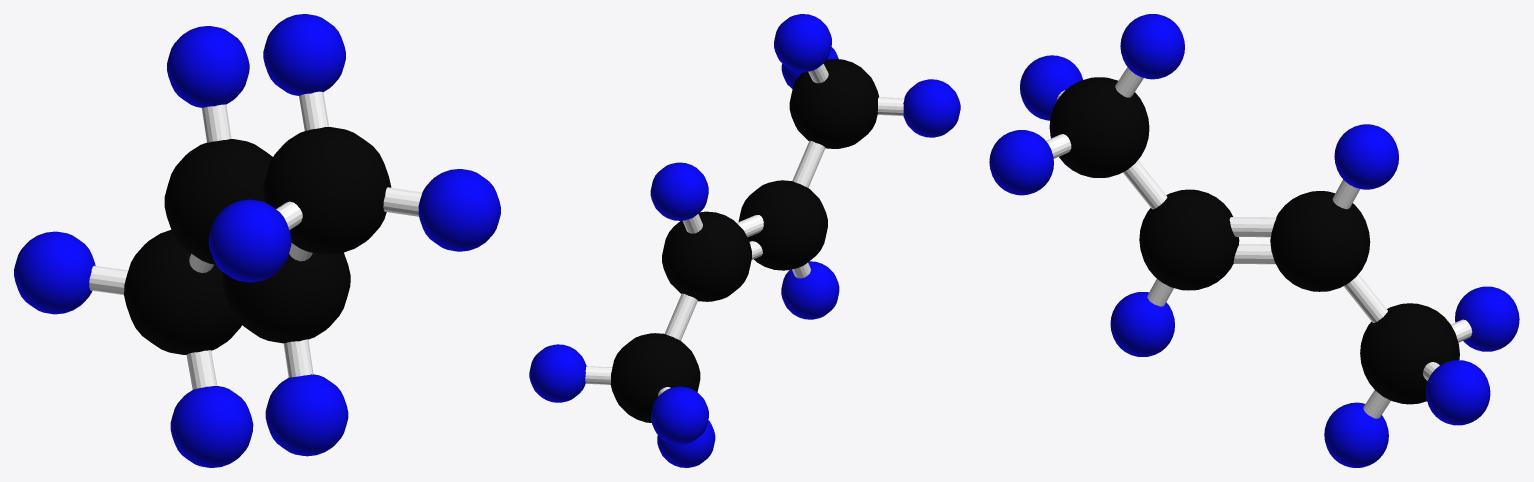
File: trans-but_2_eno.obj
3 renders of one model, left to right at view 1: azimuth 30°, elevation 25°; view 2: azimuth 150°, elevation 25°; view 3: azimuth 270°, elevation 25°, orthographic. The views are drawn at different scales.
Visible parts, largest first — view 1: Shape_Sphere.019_Shape_Sphere.032, Shape_Sphere.014_Shape_Sphere.027, Shape_Sphere.013_Shape_Sphere.026, Shape_Sphere.012_Shape_Sphere.025, Shape_Sphere.023_Shape_Sphere, Shape_Sphere.022_Shape_Sphere.035, Shape_Sphere.016_Shape_Sphere.029, Shape_Sphere.020_Shape_Sphere.033, Shape_Sphere.015_Shape_Sphere.028, Shape_Sphere.021_Shape_Sphere.034, Shape_Sphere.018_Shape_Sphere.031; view 2: Shape_Sphere.012_Shape_Sphere.025, Shape_Sphere.019_Shape_Sphere.032, Shape_Sphere.013_Shape_Sphere.026, Shape_Sphere.014_Shape_Sphere.027, Shape_Sphere.015_Shape_Sphere.028, Shape_Sphere.023_Shape_Sphere, Shape_Sphere.018_Shape_Sphere.031, Shape_Sphere.021_Shape_Sphere.034, Shape_Sphere.017_Shape_Sphere.030, Shape_Sphere.020_Shape_Sphere.033, Shape_Sphere.016_Shape_Sphere.029; view 3: Shape_Sphere.012_Shape_Sphere.025, Shape_Sphere.013_Shape_Sphere.026, Shape_Sphere.019_Shape_Sphere.032, Shape_Sphere.014_Shape_Sphere.027, Shape_Sphere.015_Shape_Sphere.028, Shape_Sphere.017_Shape_Sphere.030, Shape_Sphere.021_Shape_Sphere.034, Shape_Sphere.022_Shape_Sphere.035, Shape_Sphere.016_Shape_Sphere.029, Shape_Sphere.020_Shape_Sphere.033, Shape_Sphere.018_Shape_Sphere.031, Shape_Sphere.023_Shape_Sphere.
Part boxes in pixels (x1,y1,x2,y2): Shape_Sphere.019_Shape_Sphere.032: [263, 127, 391, 254]; Shape_Sphere.014_Shape_Sphere.027: [124, 230, 241, 354]; Shape_Sphere.013_Shape_Sphere.026: [223, 252, 350, 343]; Shape_Sphere.012_Shape_Sphere.025: [164, 139, 272, 264]; Shape_Sphere.023_Shape_Sphere: [208, 199, 291, 282]; Shape_Sphere.022_Shape_Sphere.035: [418, 169, 500, 251]; Shape_Sphere.016_Shape_Sphere.029: [170, 386, 253, 467]; Shape_Sphere.020_Shape_Sphere.033: [265, 374, 348, 456]; Shape_Sphere.015_Shape_Sphere.028: [167, 26, 249, 107]; Shape_Sphere.021_Shape_Sphere.034: [263, 14, 345, 95]; Shape_Sphere.018_Shape_Sphere.031: [14, 231, 95, 314]; Shape_Sphere.012_Shape_Sphere.025: [662, 211, 751, 301]; Shape_Sphere.019_Shape_Sphere.032: [789, 59, 878, 148]; Shape_Sphere.013_Shape_Sphere.026: [738, 180, 827, 270]; Shape_Sphere.014_Shape_Sphere.027: [610, 333, 700, 422]; Shape_Sphere.015_Shape_Sphere.028: [650, 162, 708, 220]; Shape_Sphere.023_Shape_Sphere: [903, 79, 960, 137]; Shape_Sphere.018_Shape_Sphere.031: [651, 386, 708, 444]; Shape_Sphere.021_Shape_Sphere.034: [774, 14, 831, 72]; Shape_Sphere.017_Shape_Sphere.030: [529, 344, 586, 402]; Shape_Sphere.020_Shape_Sphere.033: [781, 261, 839, 319]; Shape_Sphere.016_Shape_Sphere.029: [657, 420, 715, 467]; Shape_Sphere.012_Shape_Sphere.025: [1270, 191, 1370, 291]; Shape_Sphere.013_Shape_Sphere.026: [1139, 189, 1239, 290]; Shape_Sphere.019_Shape_Sphere.032: [1049, 77, 1149, 177]; Shape_Sphere.014_Shape_Sphere.027: [1360, 303, 1459, 404]; Shape_Sphere.015_Shape_Sphere.028: [1334, 124, 1398, 189]; Shape_Sphere.017_Shape_Sphere.030: [1426, 360, 1490, 425]; Shape_Sphere.021_Shape_Sphere.034: [1120, 14, 1184, 79]; Shape_Sphere.022_Shape_Sphere.035: [989, 130, 1053, 195]; Shape_Sphere.016_Shape_Sphere.029: [1324, 402, 1388, 467]; Shape_Sphere.020_Shape_Sphere.033: [1110, 292, 1174, 356]; Shape_Sphere.018_Shape_Sphere.031: [1455, 286, 1519, 351]; Shape_Sphere.023_Shape_Sphere: [1020, 55, 1082, 120].
Bounding box in the file's own units: 3.14 × 4.82 × 5.34.
